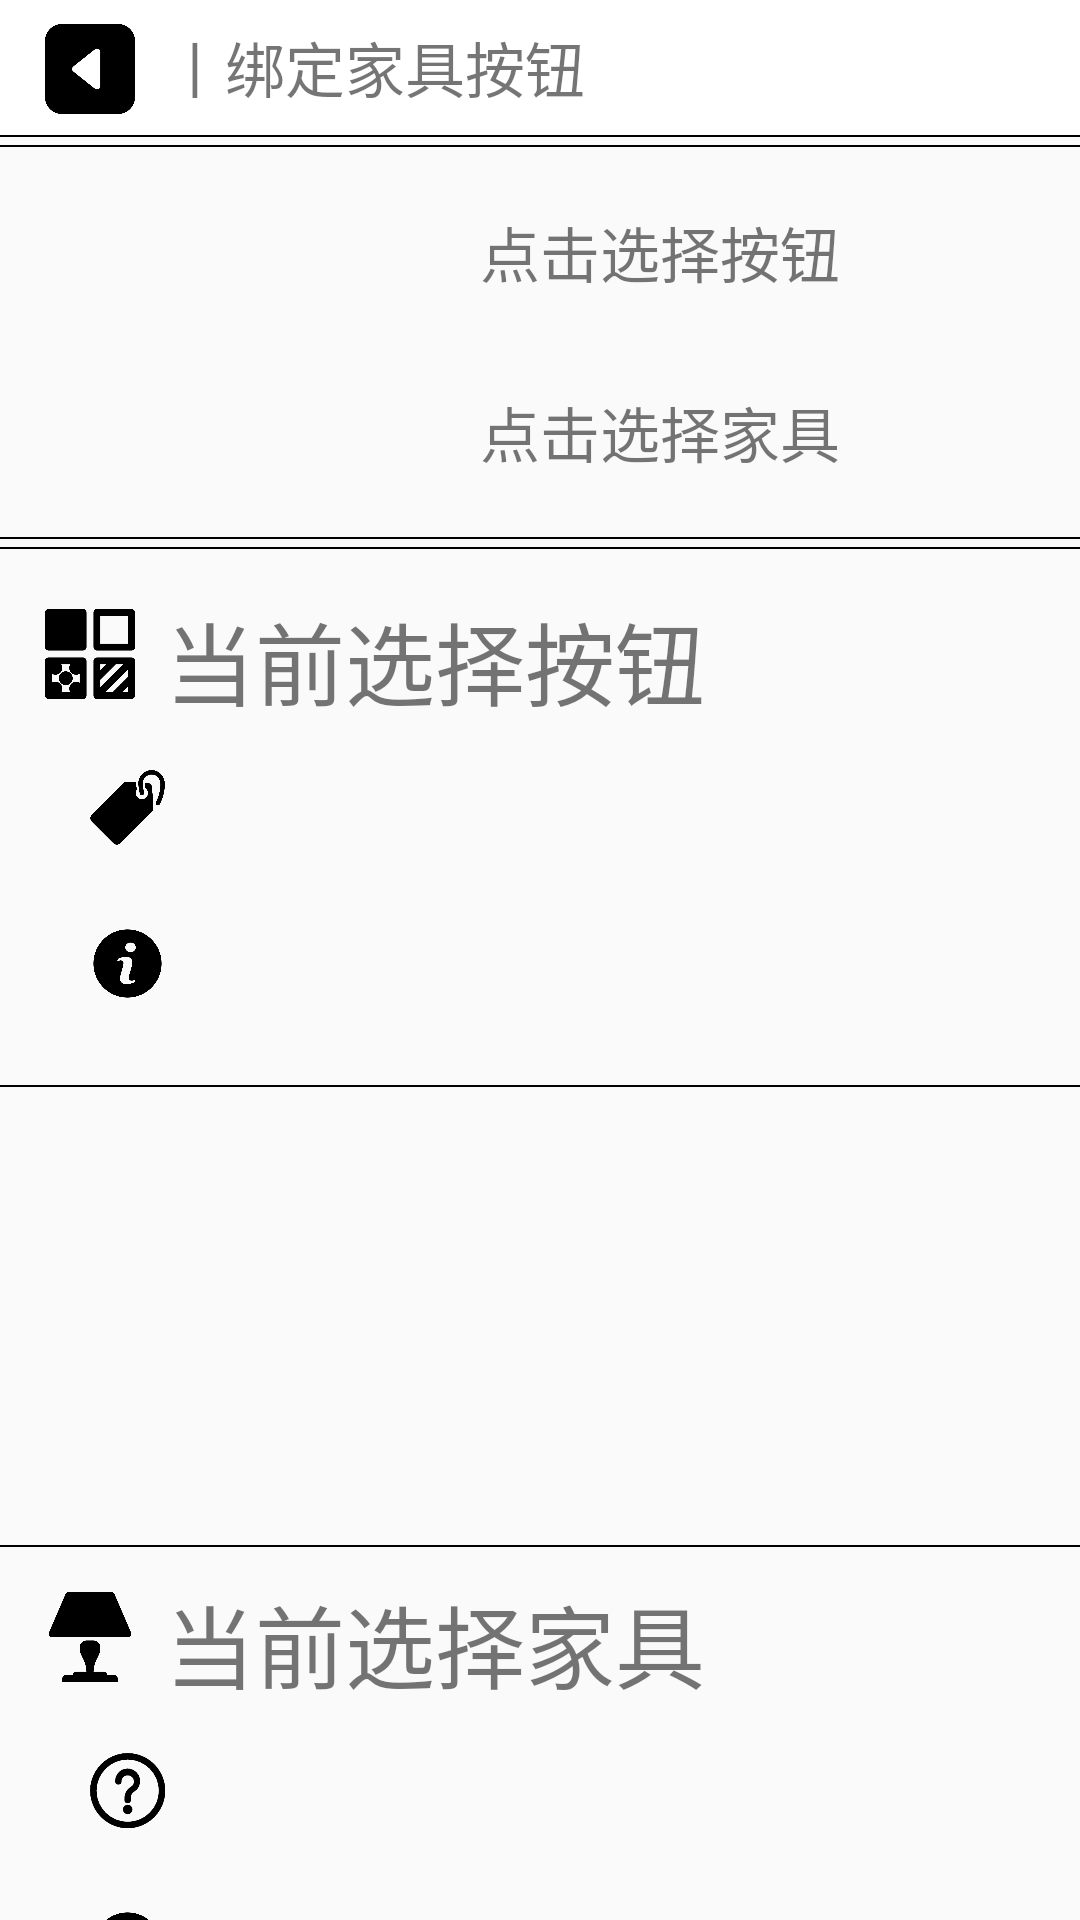

Named icons in this screenshot (1080px×1920px) and their bounding boxes, (x1, y1, x2, y2):
back: (45, 24, 135, 114)
furniture: (49, 1592, 131, 1682)
tag: (90, 770, 165, 845)
unknown: (90, 1753, 165, 1828)
